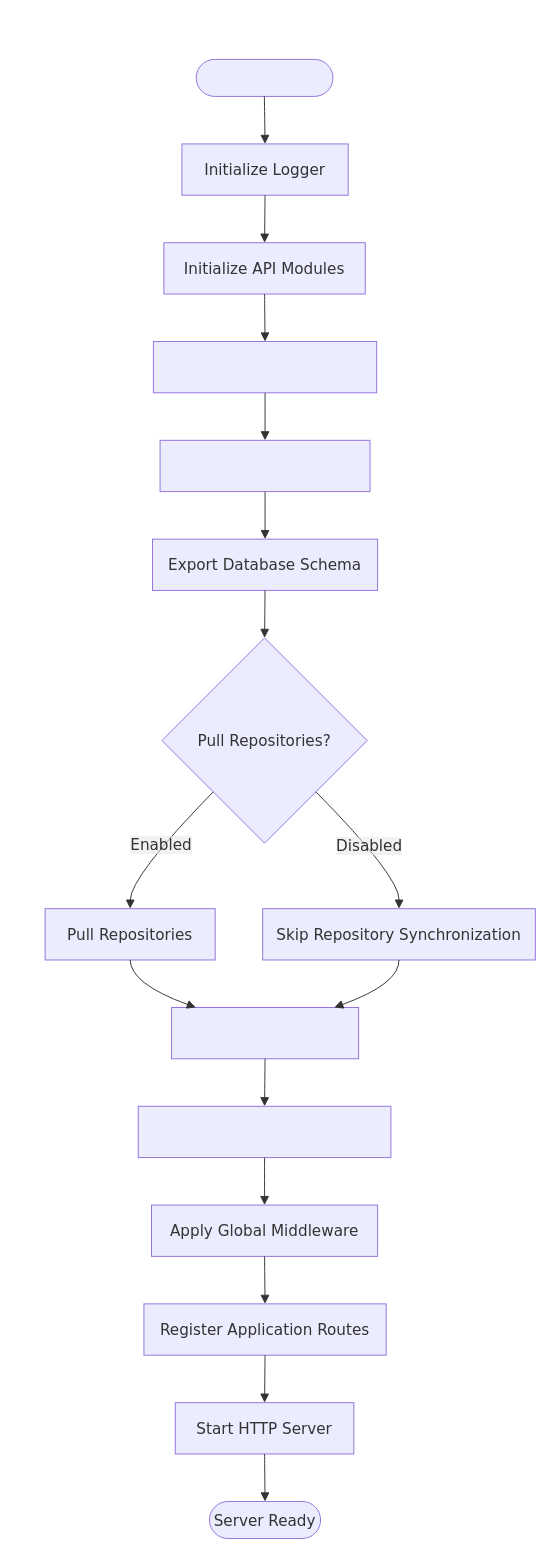
This 552x1555 diagram has some shape labels left out. Here are the shapes that lost their labels. From the top down, the box of each, then its label:
(195, 58, 333, 96): Start Application
(152, 341, 377, 393): Run Database Migrations
(159, 439, 370, 492): Import Documentation
(171, 1007, 359, 1059): Initialize Cron Jobs
(137, 1105, 391, 1158): Initialize Express Application
